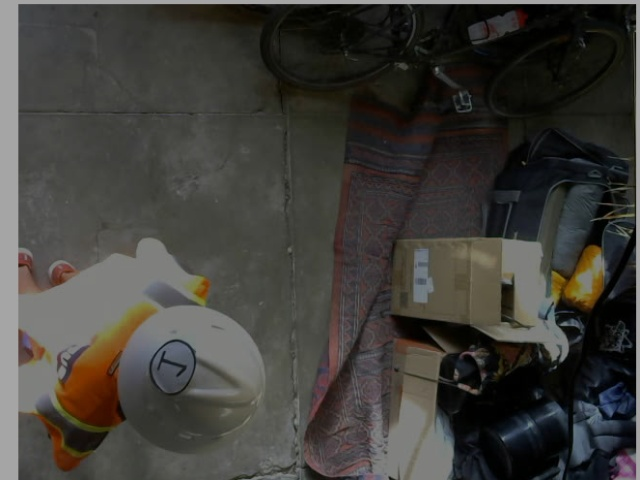one: (148, 336, 194, 393)
